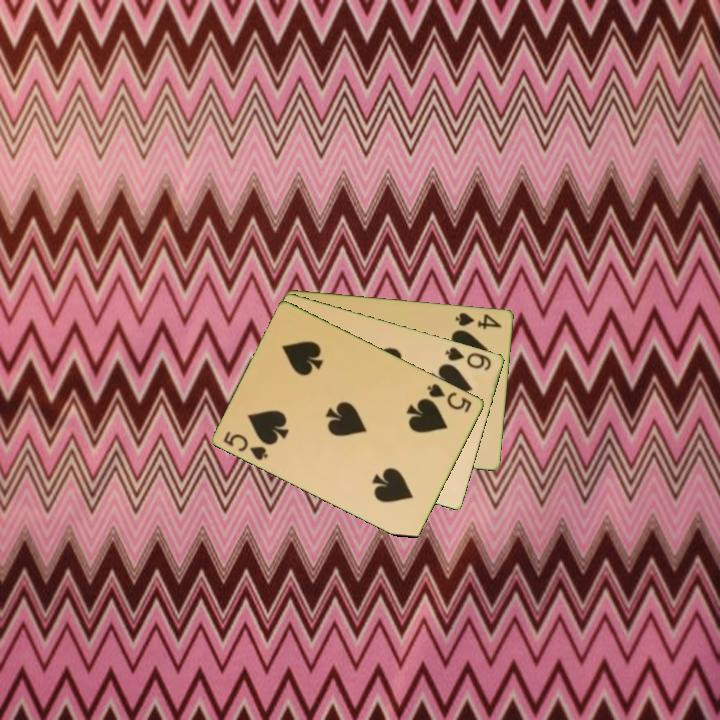4s: (452, 309, 505, 332)
5s: (424, 380, 475, 416), (220, 428, 272, 463)
6s: (442, 343, 495, 373)
